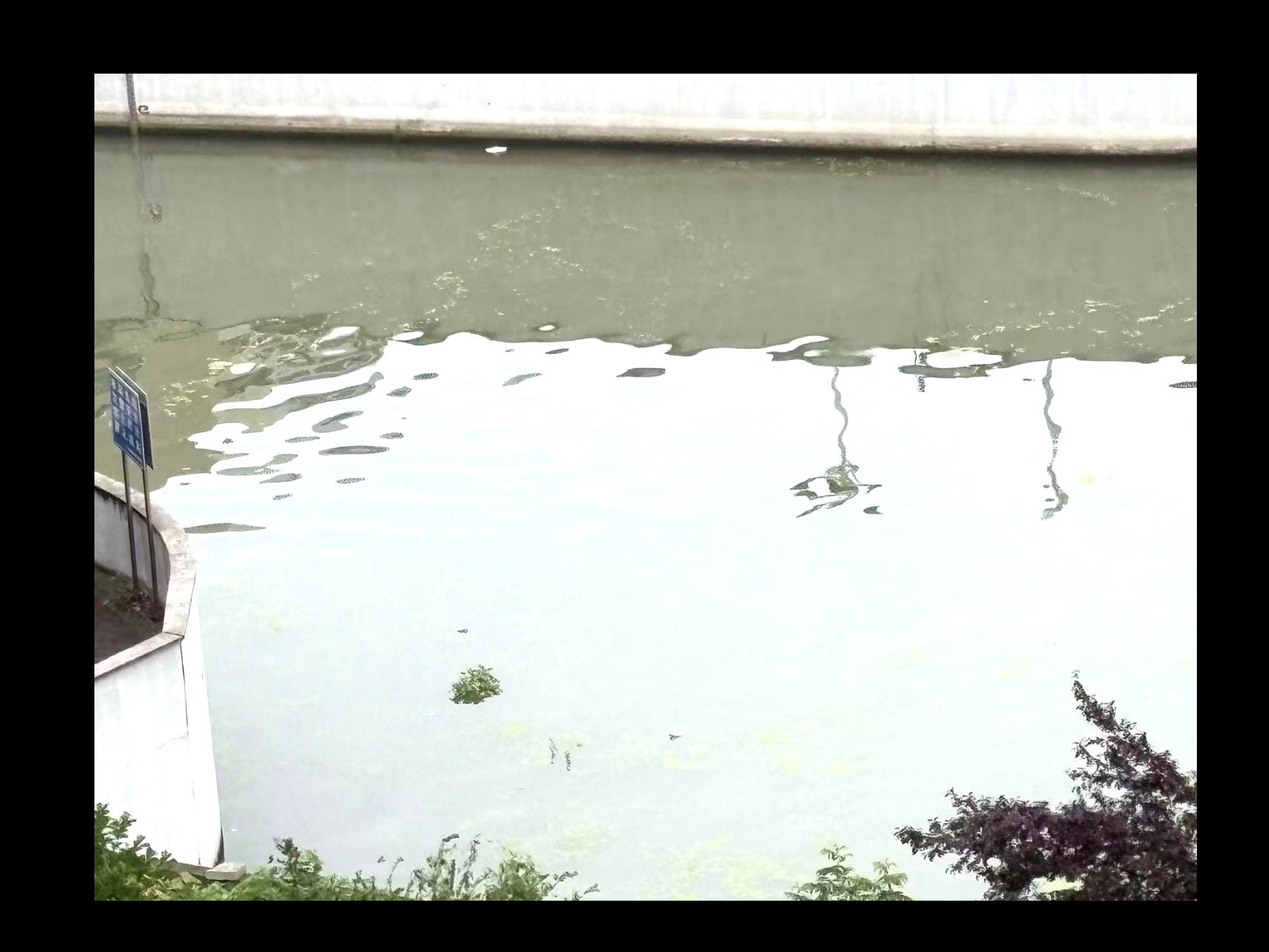Natural wastes: (453, 669, 503, 703)
Plastic wastes: (485, 142, 508, 154), (666, 730, 681, 739), (453, 625, 468, 631), (426, 710, 436, 716)
